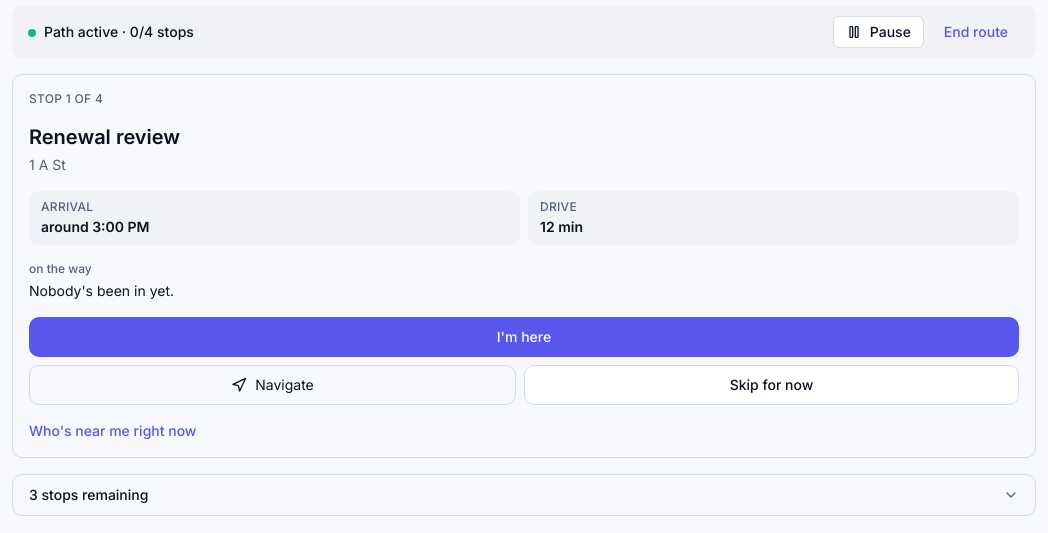
Scenario: RunningPath — one authoritative day count › the denominator stays fixed at the full roster after a resolve; progress advances
Expected: the text "Path active · 0/4 stops" is shown, [28,22,194,42]
Expected: the text "Stop 1 of 4" is shown, [29,91,103,106]
Click the button "Skip for now" at point(772, 385), box [524,365,1019,405]
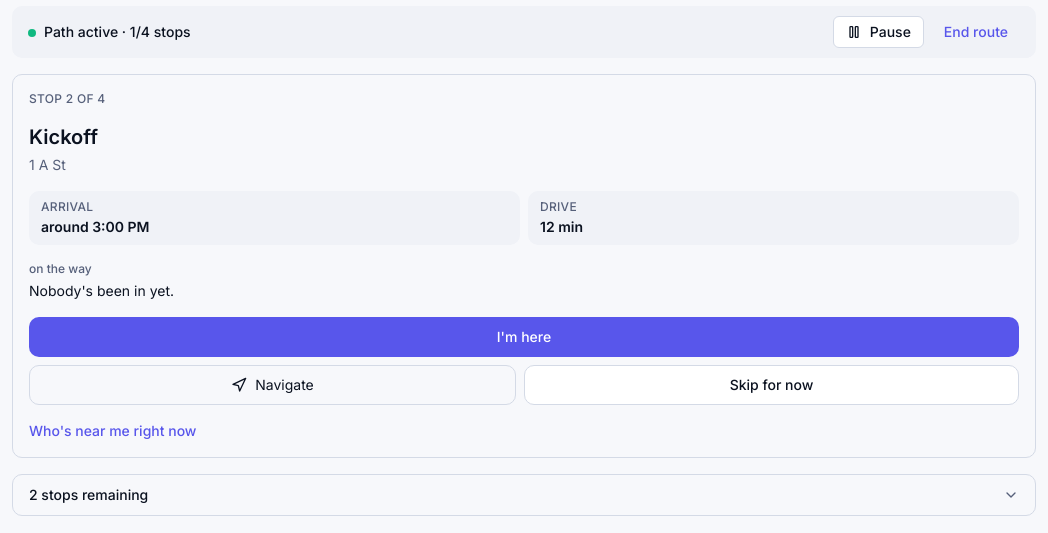
Expected: the text "Path active · 1/4 stops" is shown, [28,22,191,42]
Expected: the text "Stop 2 of 4" is shown, [29,91,106,106]
